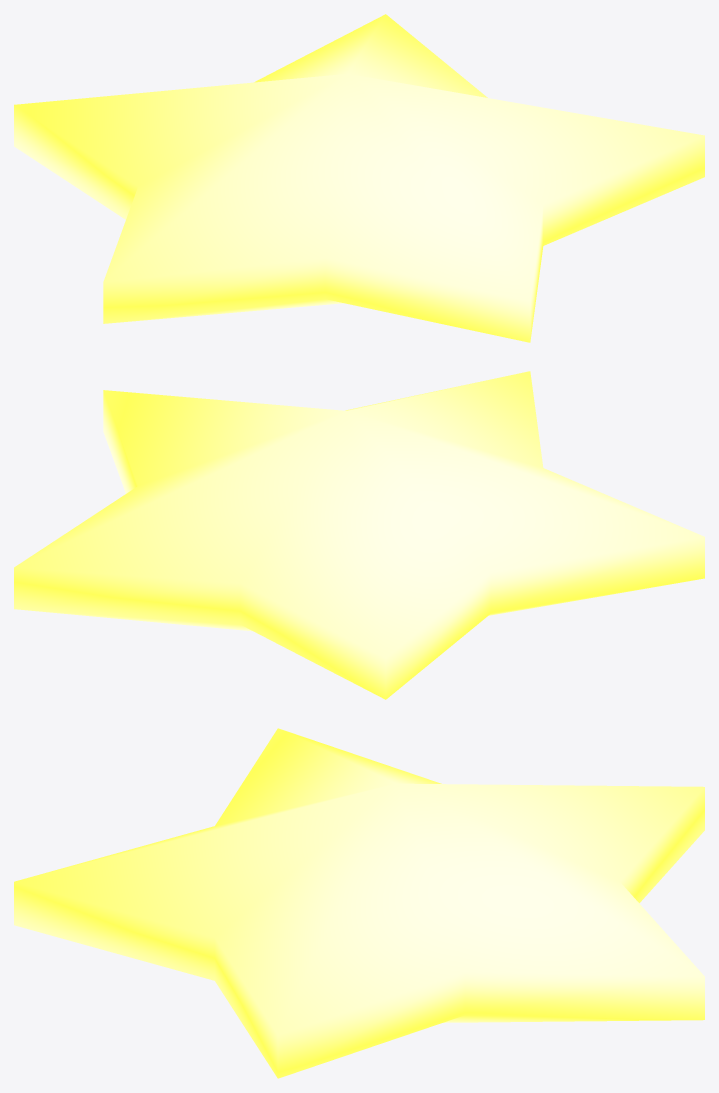
The model's file is star.glb.
3 views of the same model, one above another, from view 1: azimuth 30°, elevation 25°; view 2: azimuth 150°, elevation 25°; view 3: azimuth 270°, elevation 25° (orthographic). The views are drawn at different scales.
Parts seen in each view (by area): view 1: Circle; view 2: Circle; view 3: Circle.
Boxes of the visible parts, <box> form: Circle: <box>14,14,704,342</box>; Circle: <box>14,371,704,699</box>; Circle: <box>14,728,704,1078</box>.
Size of the model in its own units: 5.74 by 2.09 by 5.46.
